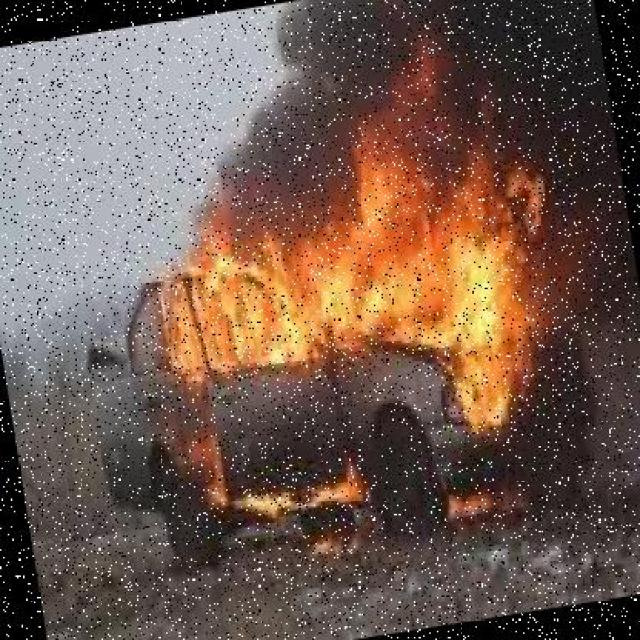fire: (138, 48, 571, 486)
